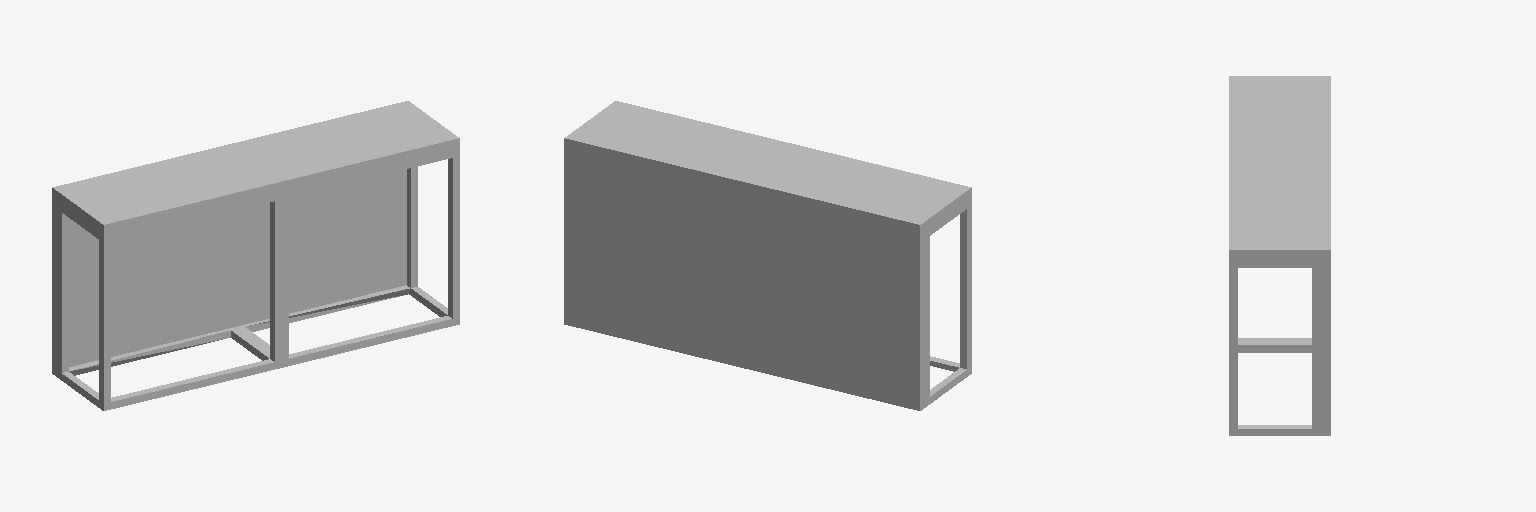
Rendered from table.obj.
3 views of the same model, side by side, from view 1: azimuth 30°, elevation 25°; view 2: azimuth 150°, elevation 25°; view 3: azimuth 270°, elevation 25° (orthographic).
Parts seen in each view (by area): view 1: PerfomerTable_002_PerfomerTable_002Shape, PerfomerTable_001_PerfomerTable_001Shape, PerfomerTable_PerfomerTableShape; view 2: PerfomerTable_002_PerfomerTable_002Shape, PerfomerTable_001_PerfomerTable_001Shape, PerfomerTable_PerfomerTableShape; view 3: PerfomerTable_001_PerfomerTable_001Shape, PerfomerTable_PerfomerTableShape, PerfomerTable_002_PerfomerTable_002Shape.
Boxes of the visible parts, x1,y1,x2,y2 form: PerfomerTable_002_PerfomerTable_002Shape: [52, 169, 406, 377]; PerfomerTable_001_PerfomerTable_001Shape: [52, 101, 459, 235]; PerfomerTable_PerfomerTableShape: [58, 149, 459, 410]; PerfomerTable_002_PerfomerTable_002Shape: [564, 149, 925, 410]; PerfomerTable_001_PerfomerTable_001Shape: [564, 101, 971, 235]; PerfomerTable_PerfomerTableShape: [926, 198, 971, 406]; PerfomerTable_001_PerfomerTable_001Shape: [1229, 76, 1330, 259]; PerfomerTable_PerfomerTableShape: [1229, 260, 1320, 435]; PerfomerTable_002_PerfomerTable_002Shape: [1321, 260, 1330, 435].
Bounding box in the file's own units: 2 × 1 × 0.5.